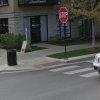Crosswalk: (42, 52, 93, 84)
